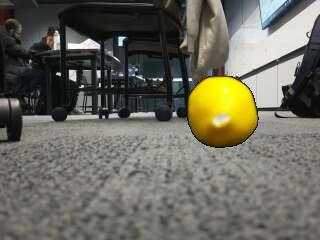lemon: (188, 77, 257, 146)
